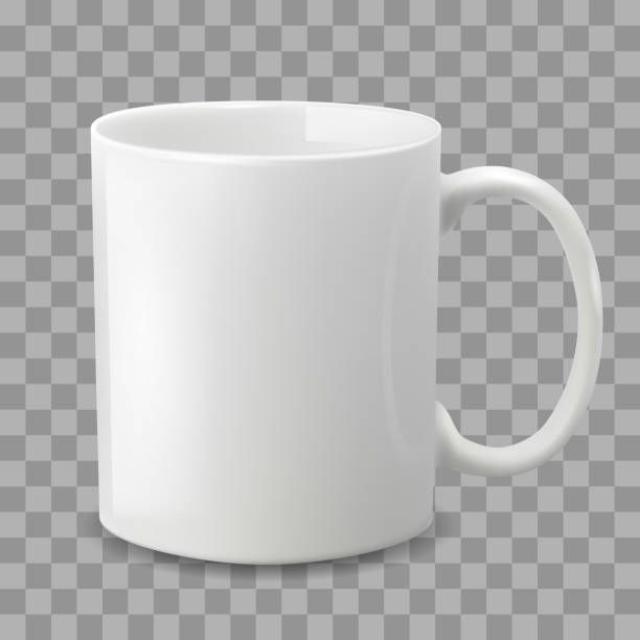glass cup: (91, 100, 603, 566)
